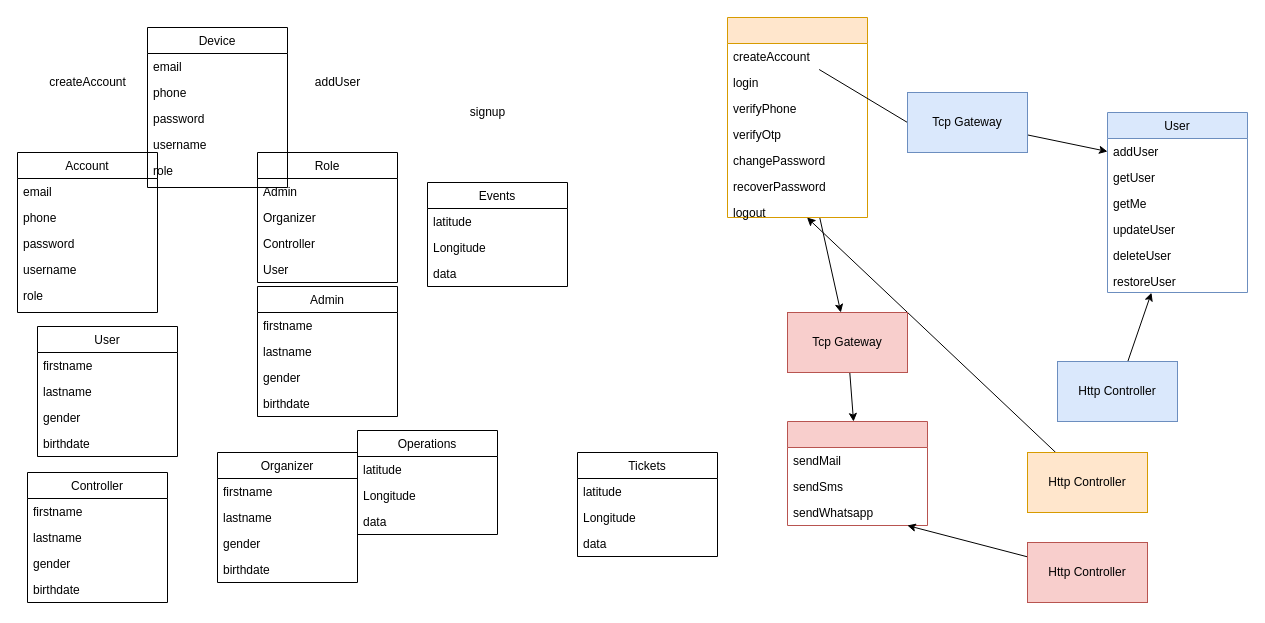
The diagram is 1265 pixels wide and 623 high, and some of its shapes have lost their labels. The box of each missing label's shape, as (x1, y1, x2, y2) in pixels:
Auth: (726, 16, 868, 218)
Communication: (786, 420, 928, 526)
